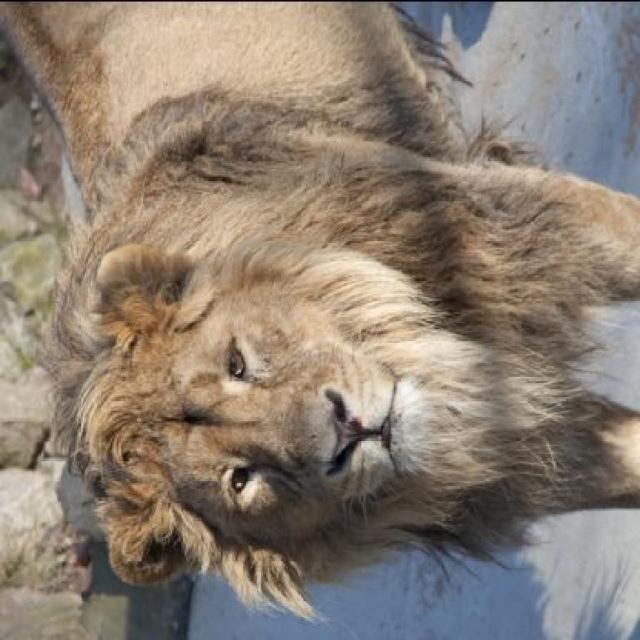Lion: (12, 6, 638, 622)
